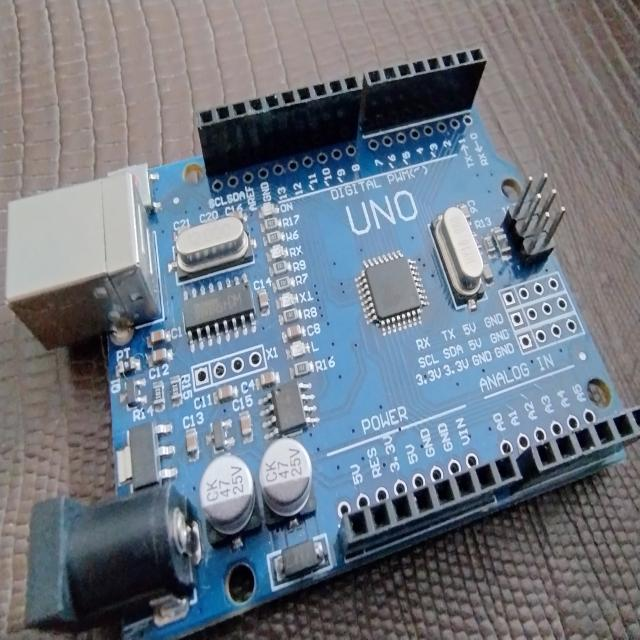arduino: (0, 30, 640, 640)
